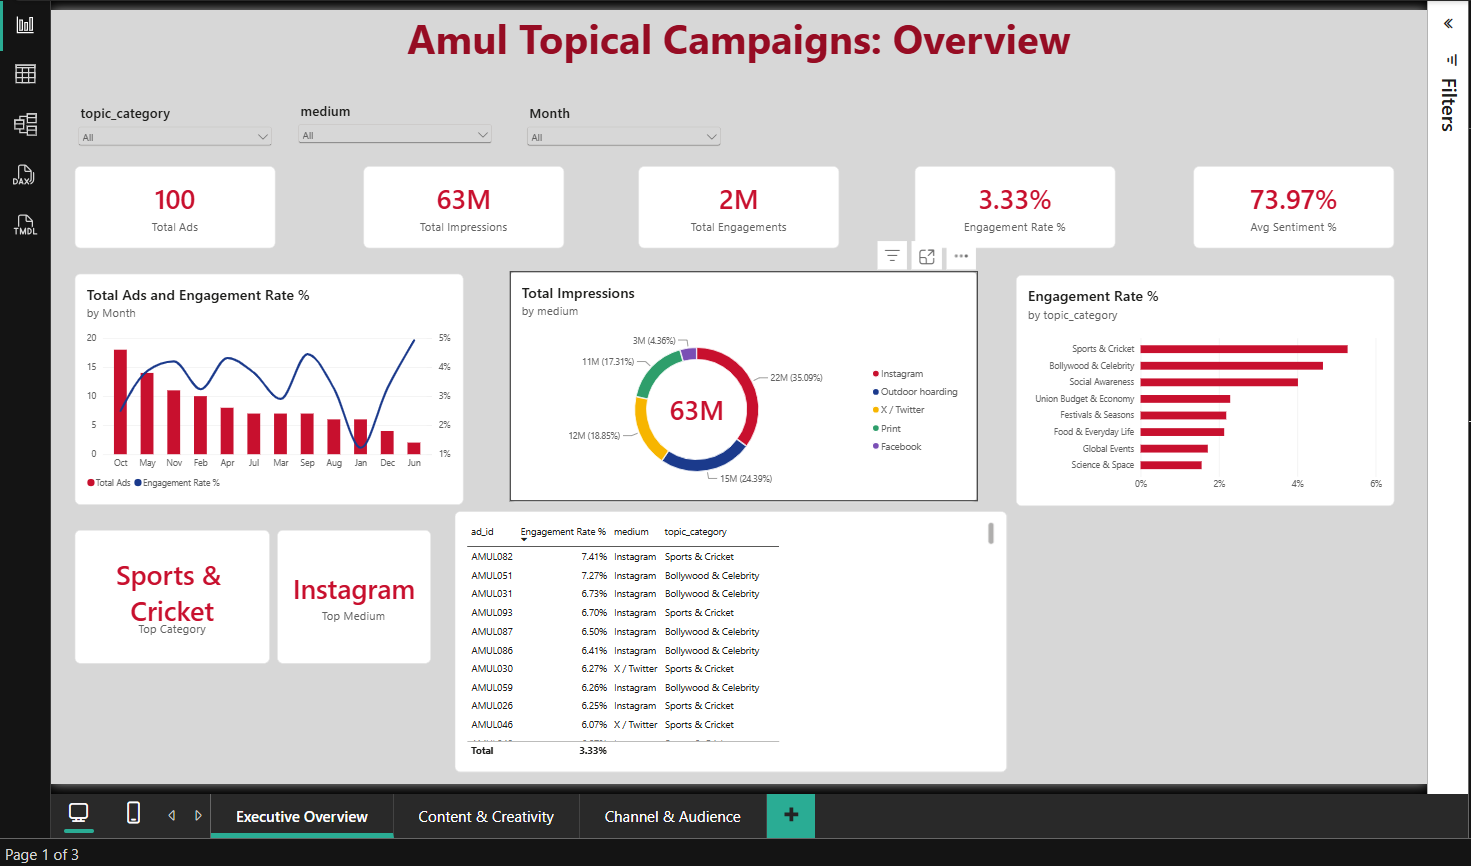

What the dashboard file says about the page in this screenshot:
{"tool":"powerbi","page":{"name":"Executive Overview","canvas":[1920,1080],"ordinal":0},"visuals":[{"type":"card","fields":{"Values":["Amul_Ads.Total Ads"]},"box":[34,218,280,114],"z":0},{"type":"card","fields":{"Values":["Amul_Ads.Total Impressions"]},"box":[436,218,280,114],"z":1},{"type":"card","fields":{"Values":["Amul_Ads.Total Engagements"]},"box":[820,218,280,114],"z":2},{"type":"card","fields":{"Values":["Amul_Ads.Engagement Rate %"]},"box":[1206,218,280,114],"z":3},{"type":"card","fields":{"Values":["Amul_Ads.Avg Sentiment %"]},"box":[1594,218,280,114],"z":4},{"type":"slicer","fields":{"Values":["Amul_Ads.topic_category"]},"box":[34,130,280,62],"z":5},{"type":"slicer","fields":{"Values":["Amul_Ads.medium"]},"box":[340,128,280,64],"z":6},{"type":"slicer","fields":{"Values":["Date.Month"]},"box":[660,130,280,62],"z":7},{"type":"lineClusteredColumnComboChart","fields":{"Category":["Date.Month"],"Y":["Amul_Ads.Total Ads"],"Y2":["Amul_Ads.Engagement Rate %"]},"box":[34,368,542,322],"z":8},{"type":"clusteredBarChart","fields":{"Category":["Amul_Ads.topic_category"],"Y":["Amul_Ads.Engagement Rate %"]},"box":[1346,370,528,322],"z":9},{"type":"donutChart","fields":{"Category":["Amul_Ads.medium"],"Y":["Amul_Ads.Total Impressions"]},"box":[640,364,652,322],"z":10},{"type":"card","fields":{"Values":["Amul_Ads.Top Category"]},"box":[34,726,272,186],"z":11},{"type":"card","fields":{"Values":["Amul_Ads.Top Medium"]},"box":[316,726,214,186],"z":12},{"type":"tableEx","fields":{"Values":["Amul_Ads.ad_id","Amul_Ads.Engagement Rate %","Amul_Ads.medium","Amul_Ads.topic_category"]},"box":[564,700,770,364],"z":14},{"type":"textbox","box":[0,0,1920,108],"z":15}]}

Visuals, with their boxes on the page's 1920x1080 design canvas (x1, y1, x2, y2). These are canvas units, not pixel positions in the 1471x866 screenshot, which may show the page scaled, cropped or inside an application window:
card - Amul_Ads.Total Ads: l=34, t=218, r=314, b=332
card - Amul_Ads.Total Impressions: l=436, t=218, r=716, b=332
card - Amul_Ads.Total Engagements: l=820, t=218, r=1100, b=332
card - Amul_Ads.Engagement Rate %: l=1206, t=218, r=1486, b=332
card - Amul_Ads.Avg Sentiment %: l=1594, t=218, r=1874, b=332
slicer - Amul_Ads.topic_category: l=34, t=130, r=314, b=192
slicer - Amul_Ads.medium: l=340, t=128, r=620, b=192
slicer - Date.Month: l=660, t=130, r=940, b=192
lineClusteredColumnComboChart - Date.Month x Amul_Ads.Total Ads: l=34, t=368, r=576, b=690
clusteredBarChart - Amul_Ads.topic_category x Amul_Ads.Engagement Rate %: l=1346, t=370, r=1874, b=692
donutChart - Amul_Ads.medium x Amul_Ads.Total Impressions: l=640, t=364, r=1292, b=686
card - Amul_Ads.Top Category: l=34, t=726, r=306, b=912
card - Amul_Ads.Top Medium: l=316, t=726, r=530, b=912
tableEx - Amul_Ads.ad_id x Amul_Ads.Engagement Rate %: l=564, t=700, r=1334, b=1064
textbox: l=0, t=0, r=1920, b=108
